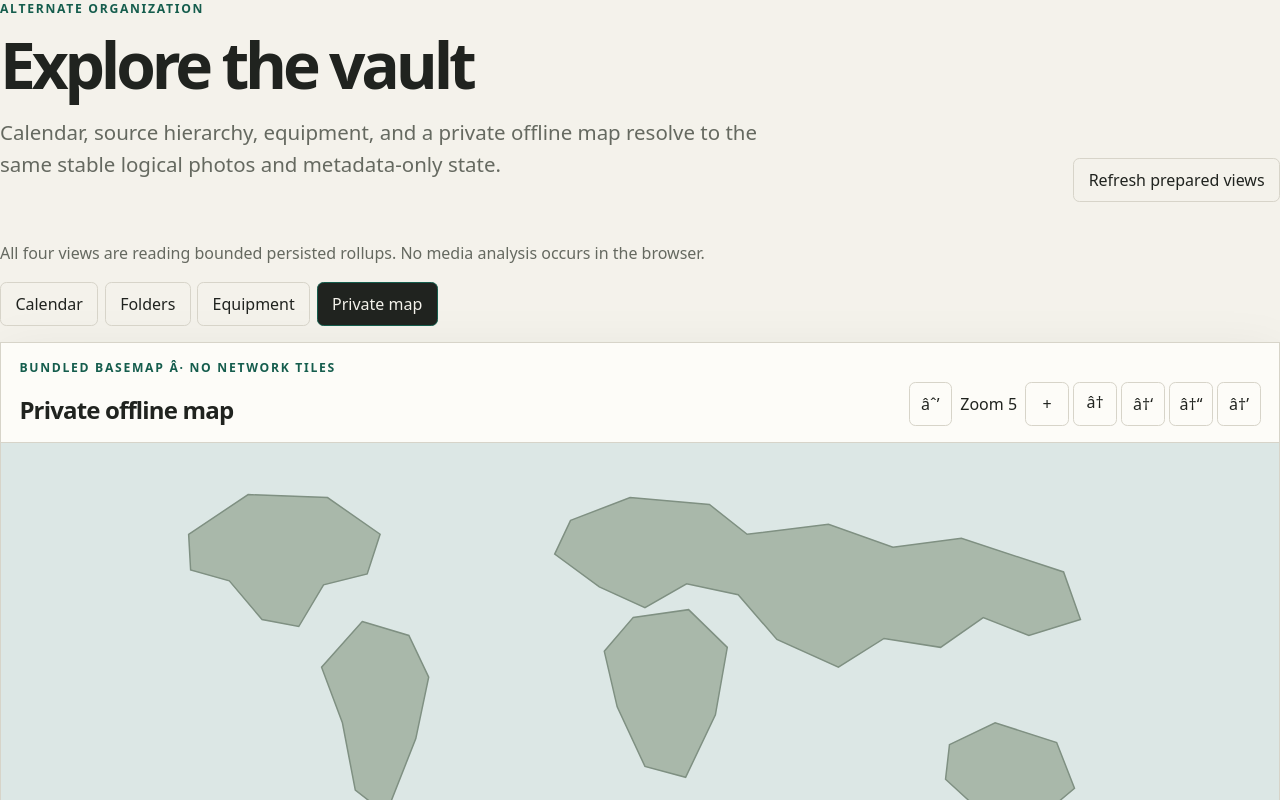
it: organization route › restores saved map state, drills into folders, and persists route controls
Expected: the heading "Private offline map" is shown, [19,393,233,426]
Click the tab "Folders". click: (148, 304)
box: [105,282,191,326]
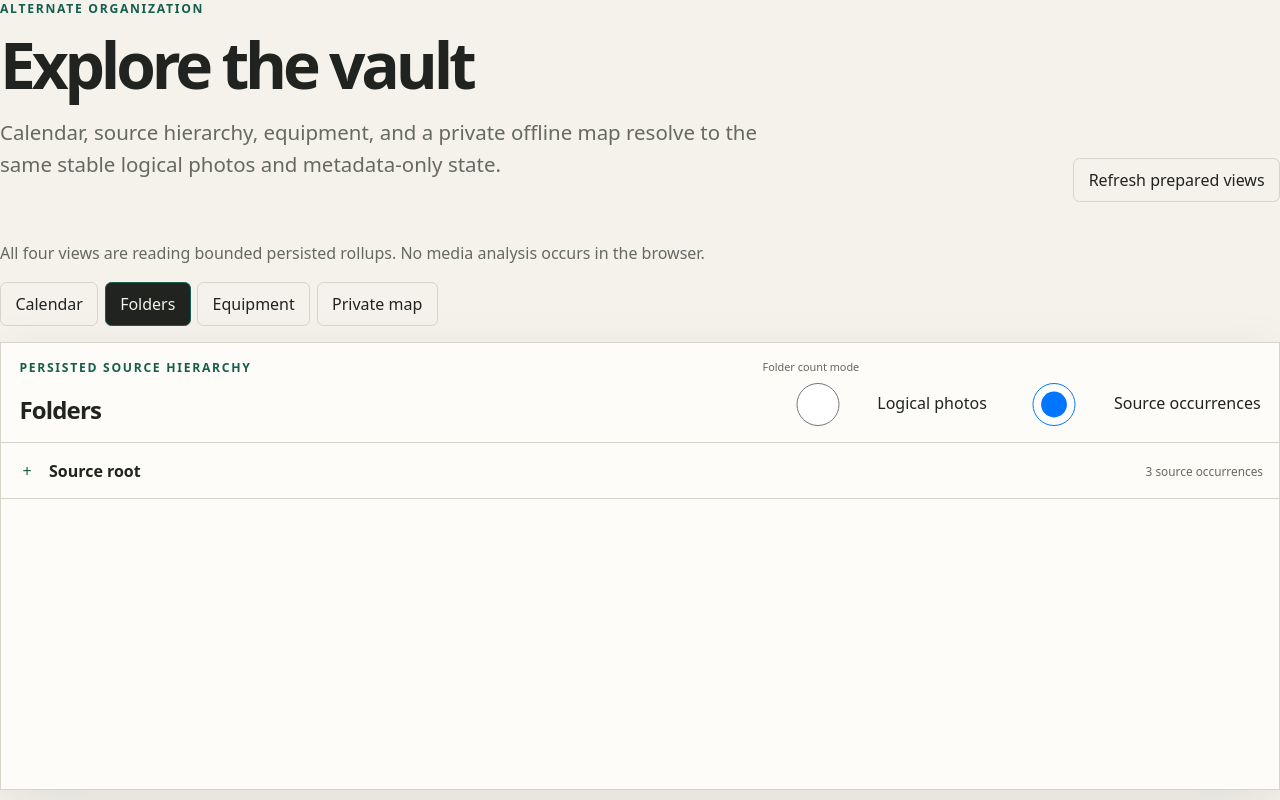
Now the heading "Folders" is shown, box [19,393,101,426]
Now the radio button labelled "Source occurrences" is checked, box [1002,383,1106,426]
Click the button "+ Source root". click: (95, 471)
box: [17,452,1134,489]
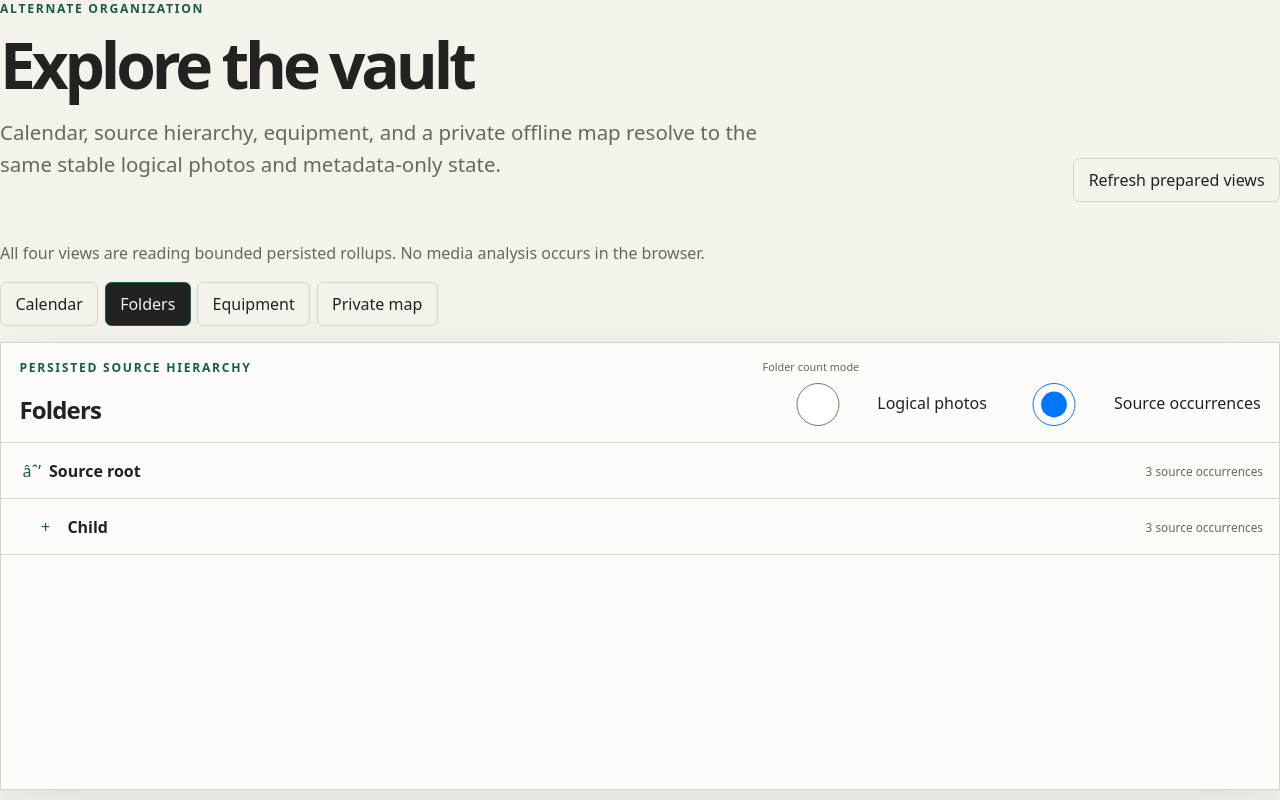
Now the text "Child" is shown, box [67,516,108,538]
